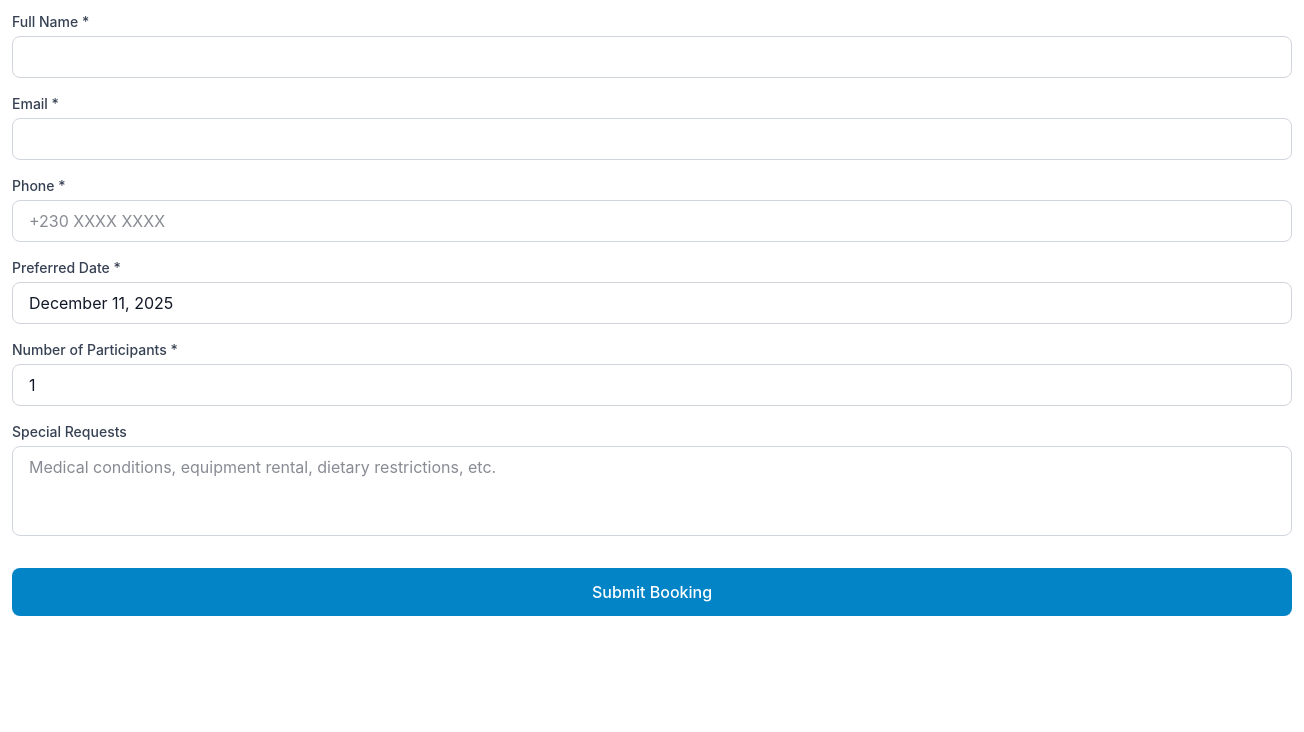
Test: BookingForm › should clear errors on valid input
Note: Fill fields to pass HTML5 validation but fail custom validation
Step 1. Type "test@example.com" into the field labelled "Email *" → (652, 139), box left=12, top=118, right=1292, bottom=160
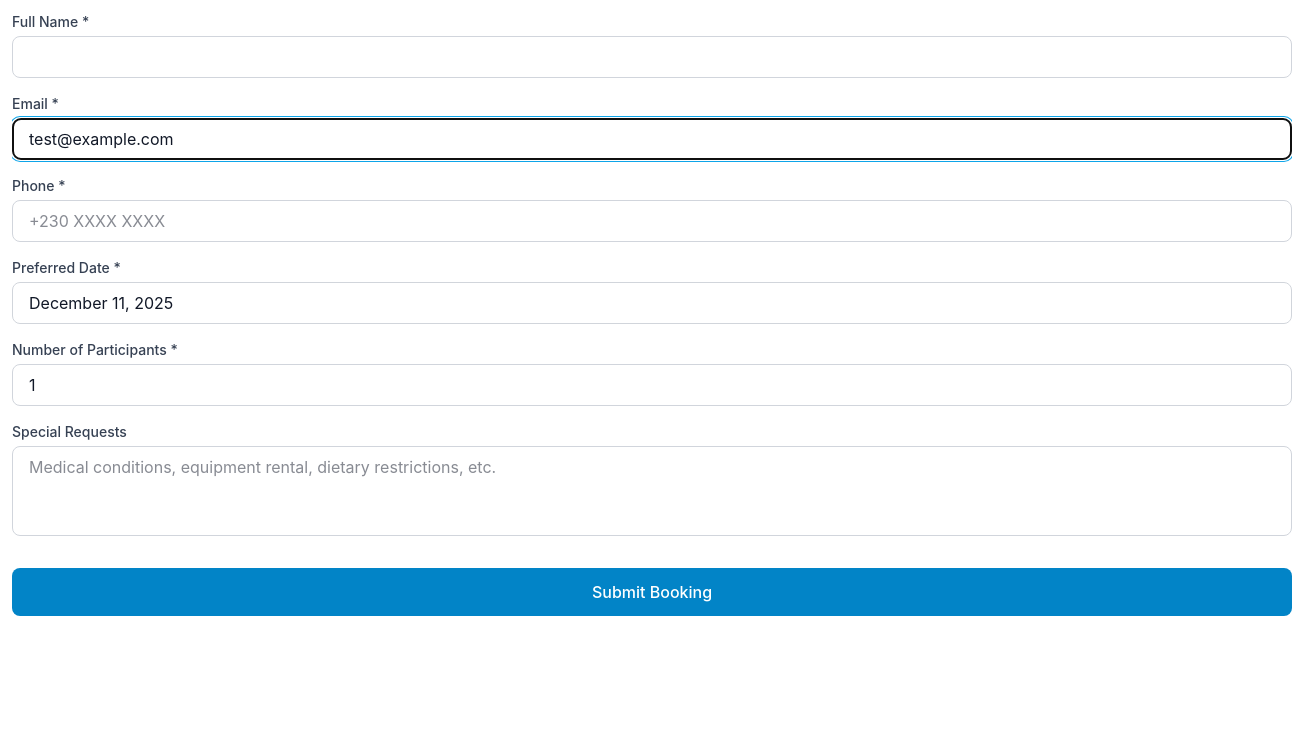
Step 2. Type "12345678" into the field labelled "Phone *" → (652, 221), box left=12, top=200, right=1292, bottom=242
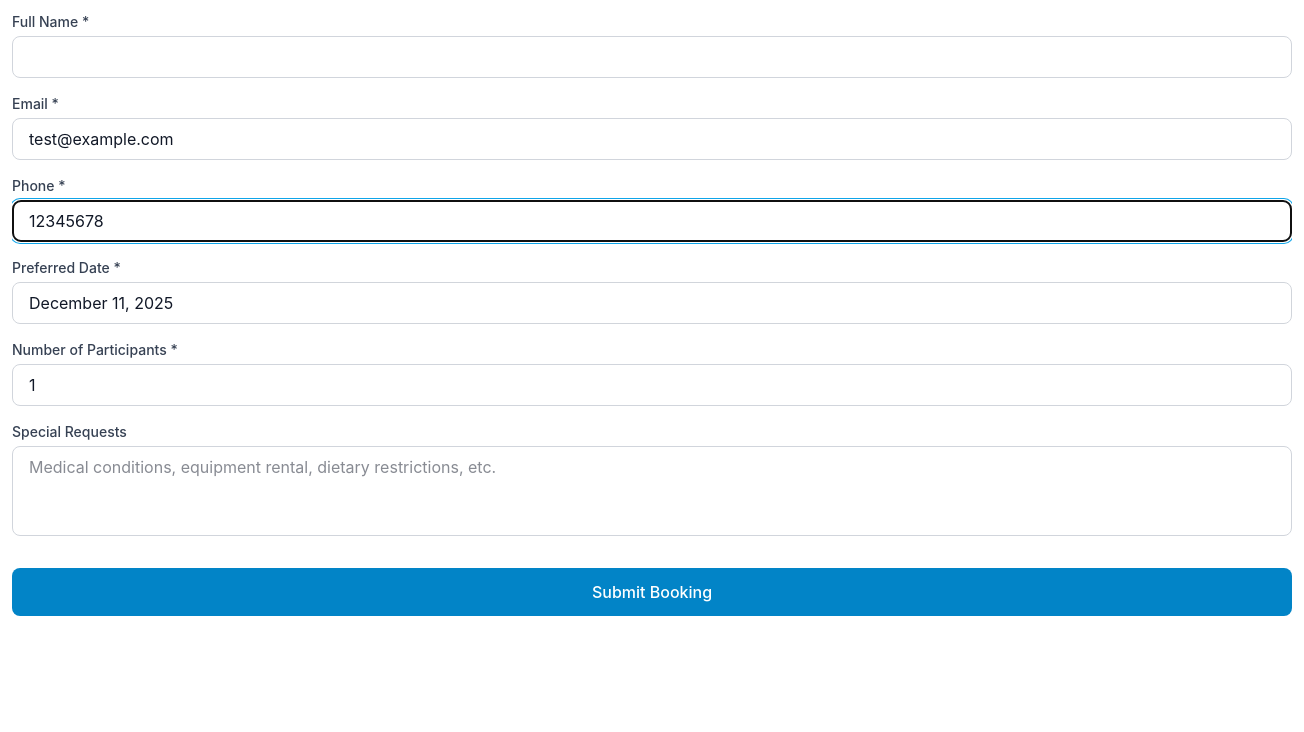
Step 3. Type "A" into the field labelled "Full Name *" → (652, 57), box left=12, top=36, right=1292, bottom=78
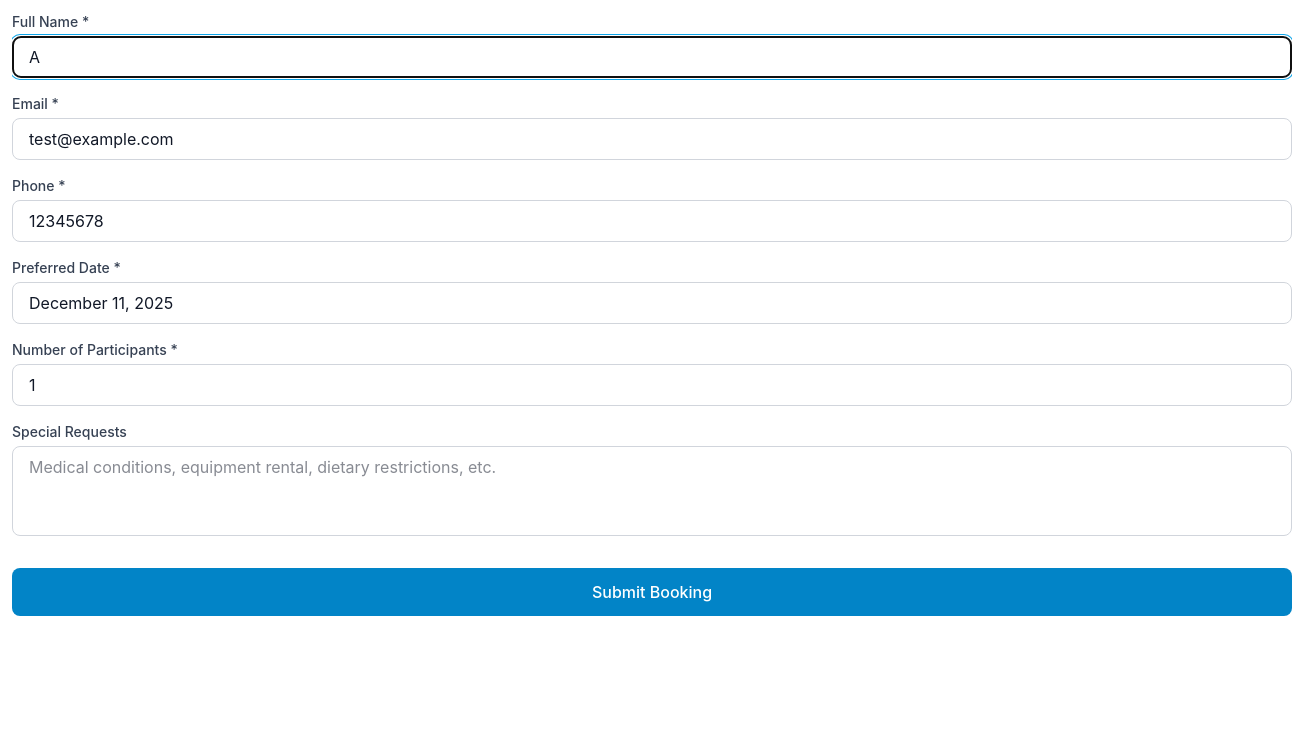
Step 4. Click the button "Submit Booking" → (652, 592), box left=12, top=568, right=1292, bottom=616
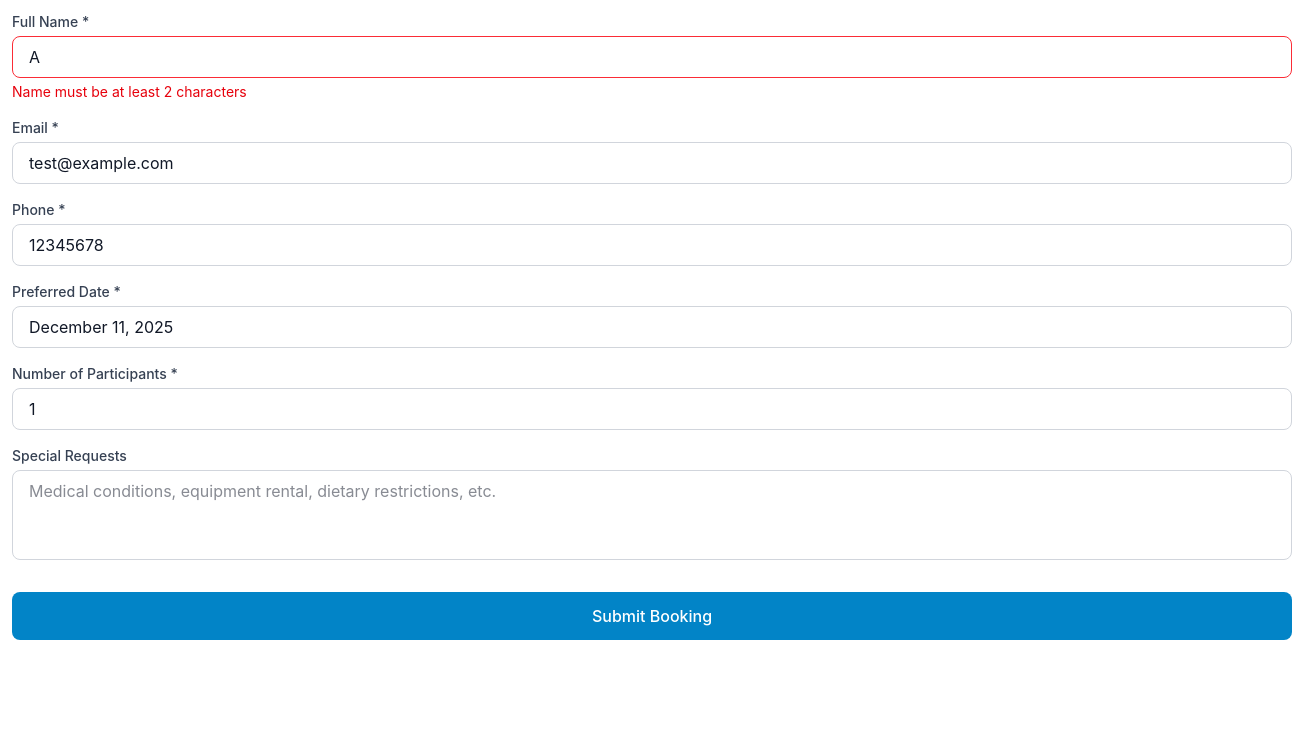
Expected: the text "Name must be at least 2 characters" is shown, left=12, top=83, right=247, bottom=100
Step 5. Type "lan Turing" into the field labelled "Full Name *" → (652, 57), box left=12, top=36, right=1292, bottom=78
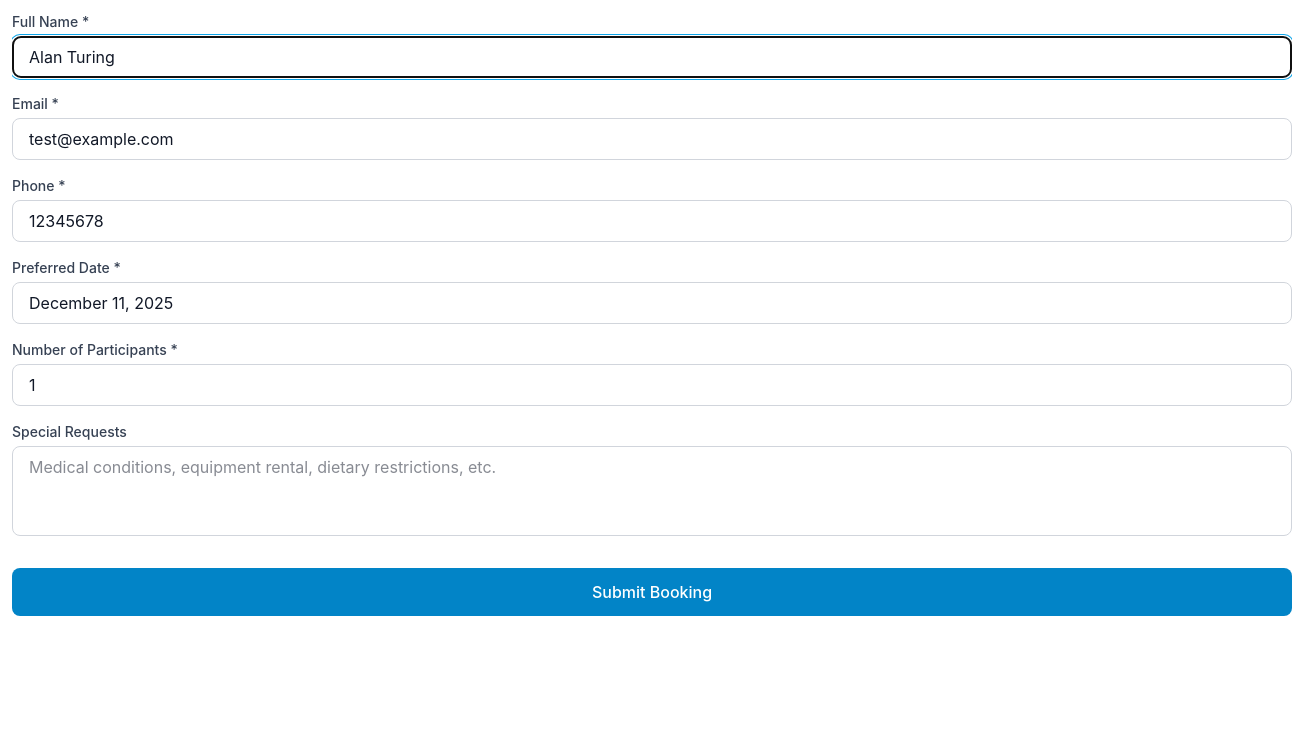
Expected: the text "Name must be at least 2 characters" is gone
